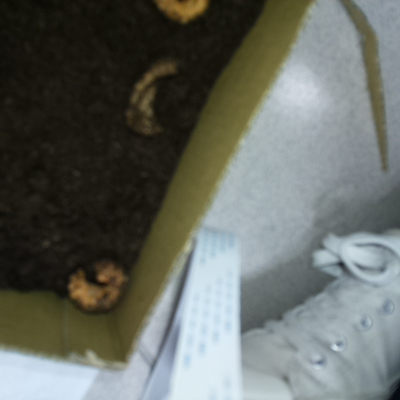eggs: (119, 52, 193, 143), (56, 251, 138, 323), (154, 1, 216, 29)
